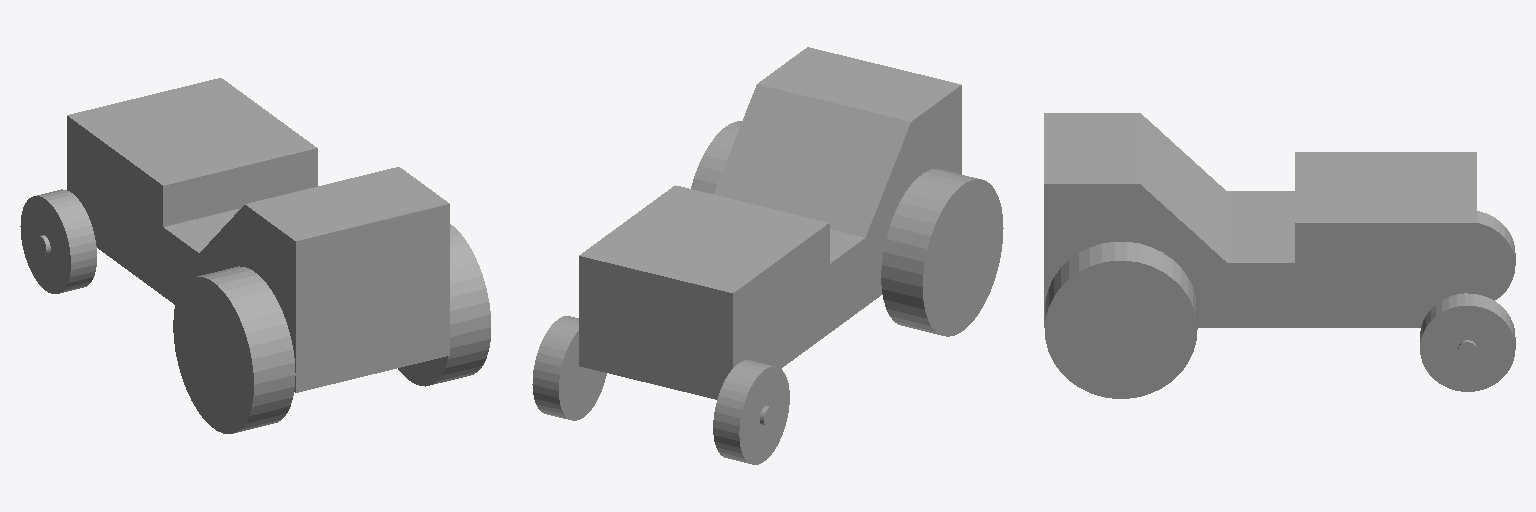
The robot description file, URDF, robot "model":
<robot
  name="model">
  <link
    name="base_link">
    <inertial>
      <origin
        xyz="-2.14253394997531E-17 -0.0781059260936229 -0.637872061412663"
        rpy="0 0 0" />
      <mass
        value="1321.36469194655" />
      <inertia
        ixx="0"
        ixy="0"
        ixz="0"
        iyy="0"
        iyz="0"
        izz="0" />
    </inertial>
    <visual>
      <origin
        xyz="0 0 0"
        rpy="0 0 0" />
      <geometry>
        <mesh
          filename="package://model/meshes/base_link.STL" />
      </geometry>
      <material
        name="">
        <color
          rgba="0.698039215686274 0.698039215686274 0.698039215686274 1" />
      </material>
    </visual>
    <collision>
      <origin
        xyz="0 0 0"
        rpy="0 0 0" />
      <geometry>
        <mesh
          filename="package://model/meshes/base_link.STL" />
      </geometry>
    </collision>
  </link>
  <link
    name="wheel_rear_left">
    <inertial>
      <origin
        xyz="0.12065 -8.32667268468867E-15 5.6621374255883E-15"
        rpy="0 0 0" />
      <mass
        value="127.707018240359" />
      <inertia
        ixx="0"
        ixy="0"
        ixz="0"
        iyy="0"
        iyz="0"
        izz="0" />
    </inertial>
    <visual>
      <origin
        xyz="0 0 0"
        rpy="0 0 0" />
      <geometry>
        <mesh
          filename="package://model/meshes/wheel_rear_left.STL" />
      </geometry>
      <material
        name="">
        <color
          rgba="0.698039215686274 0.698039215686274 0.698039215686274 1" />
      </material>
    </visual>
    <collision>
      <origin
        xyz="0 0 0"
        rpy="0 0 0" />
      <geometry>
        <mesh
          filename="package://model/meshes/wheel_rear_left.STL" />
      </geometry>
    </collision>
  </link>
  <joint
    name="axle_rear"
    type="continuous">
    <origin
      xyz="-0.448309999999995 -0.743606368790554 -0.86868"
      rpy="1.5707963267949 0 3.14159265358979" />
    <parent
      link="base_link" />
    <child
      link="wheel_rear_left" />
    <axis
      xyz="-1 0 0" />
  </joint>
  <link
    name="wheel_rear_right">
    <inertial>
      <origin
        xyz="0.12065 0 1.11022302462516E-16"
        rpy="0 0 0" />
      <mass
        value="127.707018240359" />
      <inertia
        ixx="0"
        ixy="0"
        ixz="0"
        iyy="0"
        iyz="0"
        izz="0" />
    </inertial>
    <visual>
      <origin
        xyz="0 0 0"
        rpy="0 0 0" />
      <geometry>
        <mesh
          filename="package://model/meshes/wheel_rear_right.STL" />
      </geometry>
      <material
        name="">
        <color
          rgba="0.698039215686274 0.698039215686274 0.698039215686274 1" />
      </material>
    </visual>
    <collision>
      <origin
        xyz="0 0 0"
        rpy="0 0 0" />
      <geometry>
        <mesh
          filename="package://model/meshes/wheel_rear_right.STL" />
      </geometry>
    </collision>
  </link>
  <joint
    name="axle_rear"
    type="continuous">
    <origin
      xyz="0.44831 -0.743606368790555 -0.868680000000001"
      rpy="1.5707963267949 0 0" />
    <parent
      link="base_link" />
    <child
      link="wheel_rear_right" />
    <axis
      xyz="1 0 0" />
  </joint>
  <link
    name="axle_left">
    <inertial>
      <origin
        xyz="-1.08801856413265E-14 -1.77635683940025E-14 -0.0889"
        rpy="0 0 0" />
      <mass
        value="1.47031106526729" />
      <inertia
        ixx="0"
        ixy="0"
        ixz="0"
        iyy="0"
        iyz="0"
        izz="0" />
    </inertial>
    <visual>
      <origin
        xyz="0 0 0"
        rpy="0 0 0" />
      <geometry>
        <mesh
          filename="package://model/meshes/axle_left.STL" />
      </geometry>
      <material
        name="">
        <color
          rgba="0.698039215686274 0.698039215686274 0.698039215686274 1" />
      </material>
    </visual>
    <collision>
      <origin
        xyz="0 0 0"
        rpy="0 0 0" />
      <geometry>
        <mesh
          filename="package://model/meshes/axle_left.STL" />
      </geometry>
    </collision>
  </link>
  <joint
    name="steering"
    type="revolute">
    <origin
      xyz="-0.448310000000012 1.09891073605216 -1.02108"
      rpy="-1.5707963267949 -6.12303176911189E-17 -1.5707963267949" />
    <parent
      link="base_link" />
    <child
      link="axle_left" />
    <axis
      xyz="0 0 1" />
  </joint>
  <link
    name="wheel_front_left">
    <inertial>
      <origin
        xyz="0.0762000000000001 0.0100000000001637 -1.77635683940025E-14"
        rpy="0 0 0" />
      <mass
        value="31.5066656842991" />
      <inertia
        ixx="0"
        ixy="0"
        ixz="0"
        iyy="0"
        iyz="0"
        izz="0" />
    </inertial>
    <visual>
      <origin
        xyz="0 0 0"
        rpy="0 0 0" />
      <geometry>
        <mesh
          filename="package://model/meshes/wheel_front_left.STL" />
      </geometry>
      <material
        name="">
        <color
          rgba="0.698039215686274 0.698039215686274 0.698039215686274 1" />
      </material>
    </visual>
    <collision>
      <origin
        xyz="0 0 0"
        rpy="0 0 0" />
      <geometry>
        <mesh
          filename="package://model/meshes/wheel_front_left.STL" />
      </geometry>
    </collision>
  </link>
  <joint
    name="axis_left"
    type="continuous">
    <origin
      xyz="0 0.01 0"
      rpy="3.14159265358979 1.5707963267949 0" />
    <parent
      link="axle_left" />
    <child
      link="wheel_front_left" />
    <axis
      xyz="-1 0 0" />
  </joint>
  <link
    name="axle_right">
    <inertial>
      <origin
        xyz="6.88338275267597E-15 5.55111512312578E-15 0.0888999999999999"
        rpy="0 0 0" />
      <mass
        value="1.47031106526729" />
      <inertia
        ixx="0"
        ixy="0"
        ixz="0"
        iyy="0"
        iyz="0"
        izz="0" />
    </inertial>
    <visual>
      <origin
        xyz="0 0 0"
        rpy="0 0 0" />
      <geometry>
        <mesh
          filename="package://model/meshes/axle_right.STL" />
      </geometry>
      <material
        name="">
        <color
          rgba="0.698039215686274 0.698039215686274 0.698039215686274 1" />
      </material>
    </visual>
    <collision>
      <origin
        xyz="0 0 0"
        rpy="0 0 0" />
      <geometry>
        <mesh
          filename="package://model/meshes/axle_right.STL" />
      </geometry>
    </collision>
  </link>
  <joint
    name="steering"
    type="revolute">
    <origin
      xyz="0.448309999999996 1.09891073605216 -1.02108"
      rpy="1.5707963267949 6.12303176911189E-17 1.5707963267949" />
    <parent
      link="base_link" />
    <child
      link="axle_right" />
    <axis
      xyz="0 0 1" />
  </joint>
  <link
    name="wheel_front_right">
    <inertial>
      <origin
        xyz="0.0761999999999962 9.76996261670138E-15 -8.43769498715119E-15"
        rpy="0 0 0" />
      <mass
        value="31.5066656842991" />
      <inertia
        ixx="0"
        ixy="0"
        ixz="0"
        iyy="0"
        iyz="0"
        izz="0" />
    </inertial>
    <visual>
      <origin
        xyz="0 0 0"
        rpy="0 0 0" />
      <geometry>
        <mesh
          filename="package://model/meshes/wheel_front_right.STL" />
      </geometry>
      <material
        name="">
        <color
          rgba="0.698039215686274 0.698039215686274 0.698039215686274 1" />
      </material>
    </visual>
    <collision>
      <origin
        xyz="0 0 0"
        rpy="0 0 0" />
      <geometry>
        <mesh
          filename="package://model/meshes/wheel_front_right.STL" />
      </geometry>
    </collision>
  </link>
  <joint
    name="axle_front"
    type="continuous">
    <origin
      xyz="0 0 0"
      rpy="1.96259273898454 -1.5707963267949 0" />
    <parent
      link="axle_right" />
    <child
      link="wheel_front_right" />
    <axis
      xyz="1 0 0" />
  </joint>
</robot>

--- Facts derived from the render (not from the file) ---
The picture shows the robot from 3 angles, left to right: view 1: azimuth 30°, elevation 25°; view 2: azimuth 150°, elevation 25°; view 3: azimuth 270°, elevation 25°; orthographic projection.
Robot: model — 7 links, 6 joints (2 revolute, 4 continuous); root link base_link; default pose: all joints at 0.
Links seen in each view (by area): view 1: base_link, wheel_rear_left, wheel_front_left, wheel_rear_right; view 2: base_link, wheel_rear_left, wheel_front_left, wheel_front_right, wheel_rear_right; view 3: base_link, wheel_rear_right, wheel_front_right, wheel_front_left.
Boxes of the visible links, left/top/right/bottom form: base_link: left=67, top=78, right=449, bottom=392; wheel_rear_left: left=173, top=266, right=295, bottom=433; wheel_front_left: left=20, top=189, right=96, bottom=293; wheel_rear_right: left=398, top=224, right=490, bottom=386; base_link: left=579, top=47, right=961, bottom=399; wheel_rear_left: left=881, top=169, right=1003, bottom=336; wheel_front_left: left=713, top=360, right=789, bottom=464; wheel_front_right: left=532, top=316, right=606, bottom=420; wheel_rear_right: left=691, top=121, right=741, bottom=193; base_link: left=1044, top=113, right=1476, bottom=327; wheel_rear_right: left=1045, top=242, right=1197, bottom=398; wheel_front_right: left=1420, top=293, right=1515, bottom=391; wheel_front_left: left=1477, top=211, right=1515, bottom=300.
Size in the robot's own frame: 1.38 by 2.5 by 1.15 metres.
7 mesh visuals loaded from 7 distinct referenced files (7 binary STL).